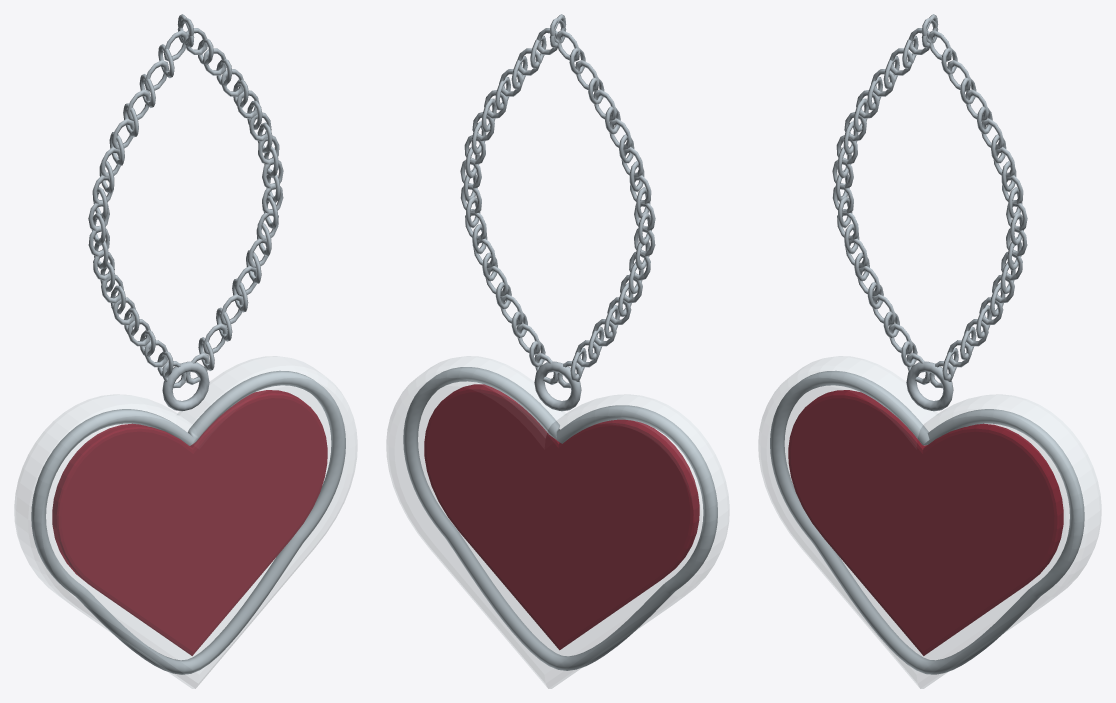
File: blood-heart-pendant.glb
The picture shows the model from 3 angles, left to right: view 1: azimuth 30°, elevation 25°; view 2: azimuth 150°, elevation 25°; view 3: azimuth 330°, elevation 25°; orthographic projection.
Visible parts, largest first — view 1: CrystalShell, BloodHeart, SilverHeartRim, SilverBail; view 2: CrystalShell, BloodHeart, SilverHeartRim, SilverBail; view 3: CrystalShell, BloodHeart, SilverHeartRim, SilverBail.
Boxes of the visible parts, x1=… form: CrystalShell: x1=14, y1=356, x2=357, y2=688; BloodHeart: x1=52, y1=390, x2=327, y2=655; SilverHeartRim: x1=31, y1=370, x2=345, y2=674; SilverBail: x1=162, y1=361, x2=209, y2=411; CrystalShell: x1=386, y1=356, x2=729, y2=688; BloodHeart: x1=424, y1=384, x2=699, y2=650; SilverHeartRim: x1=403, y1=367, x2=717, y2=670; SilverBail: x1=534, y1=361, x2=581, y2=411; CrystalShell: x1=758, y1=356, x2=1101, y2=688; BloodHeart: x1=788, y1=390, x2=1063, y2=655; SilverHeartRim: x1=770, y1=370, x2=1084, y2=674; SilverBail: x1=906, y1=361, x2=953, y2=411.
Size of the model in its own units: 0.0649 by 0.1263 by 0.0092.
